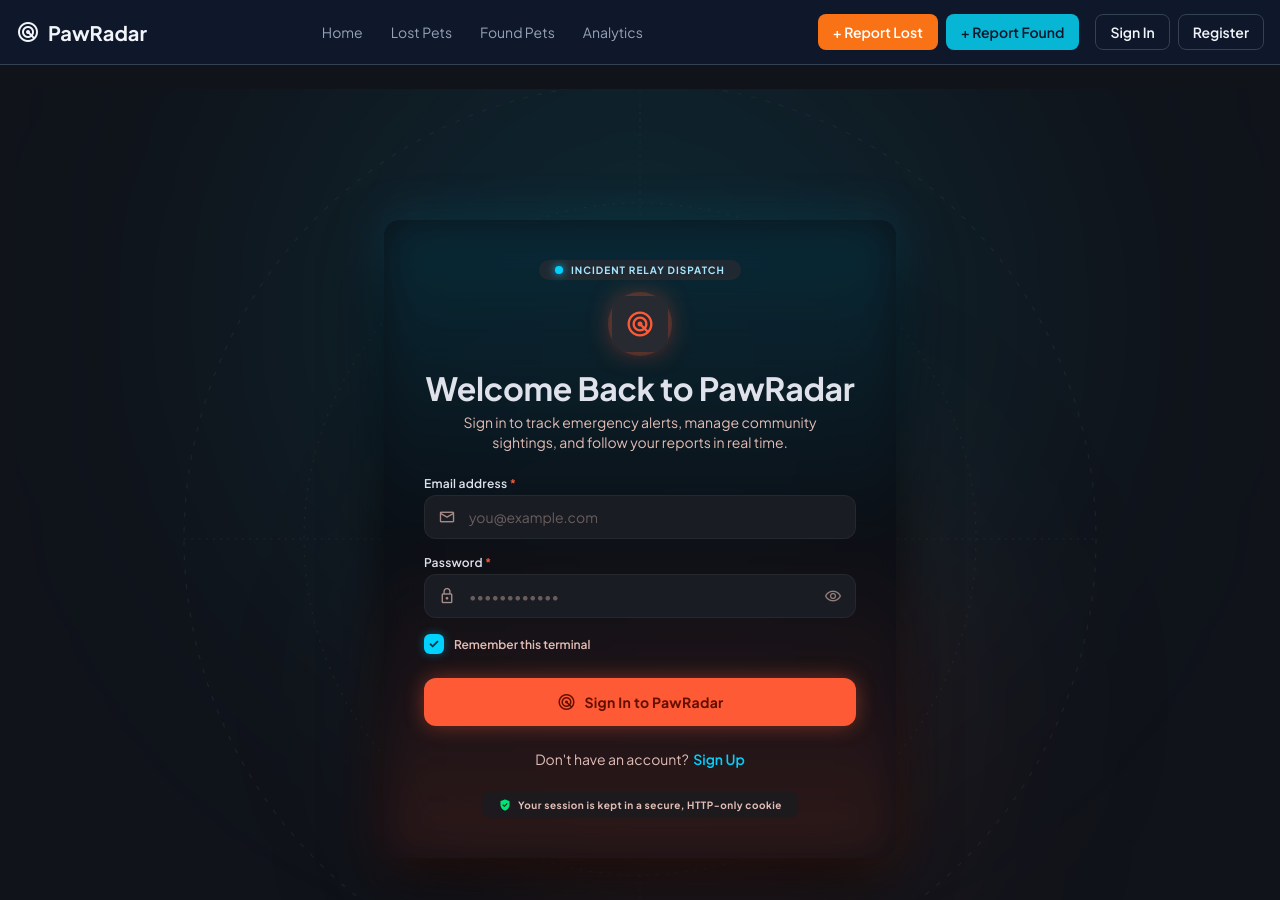
Scenario: LoginPage › server responses › shows a message for an unreachable server
Type "sam@example.com" into the field labelled "Email address *".
click(640, 517); type("sam@example.com")  # box [424, 495, 856, 539]
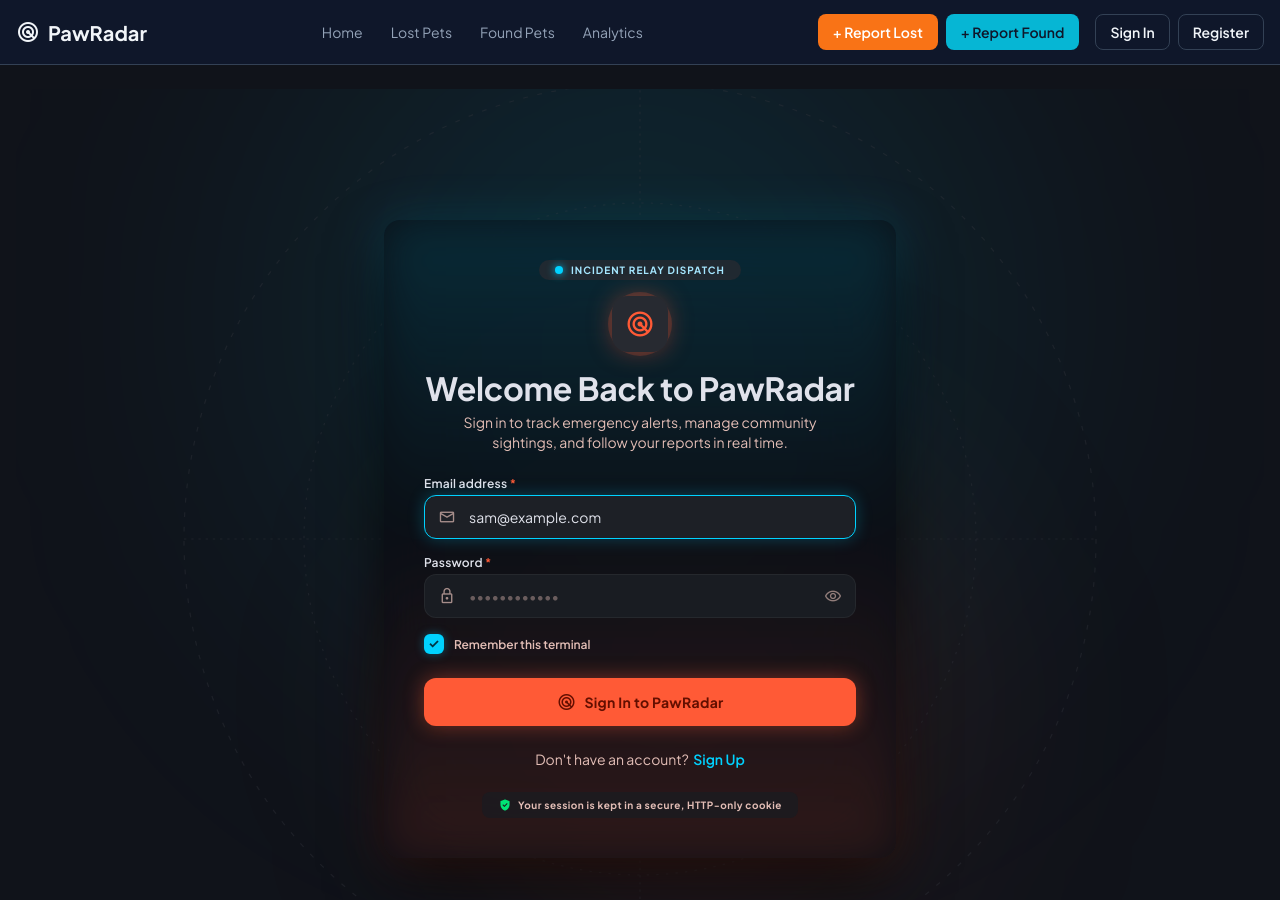
Type "correct-horse-1" into the password field labelled "Password *".
click(640, 596); type("correct-horse-1")  # box [424, 574, 856, 618]
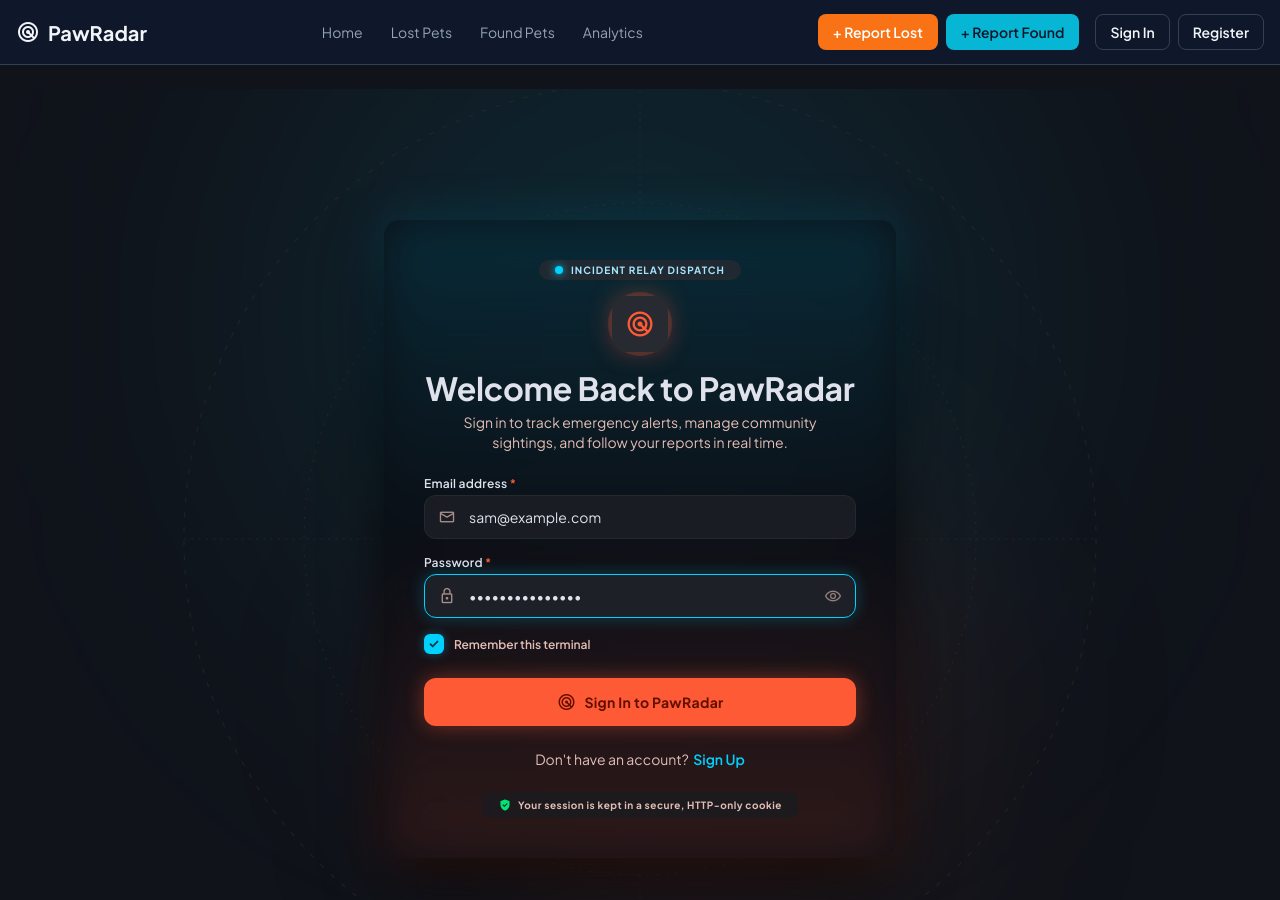
Click the button "Sign In to PawRadar".
click(640, 702)  # box [424, 678, 856, 726]
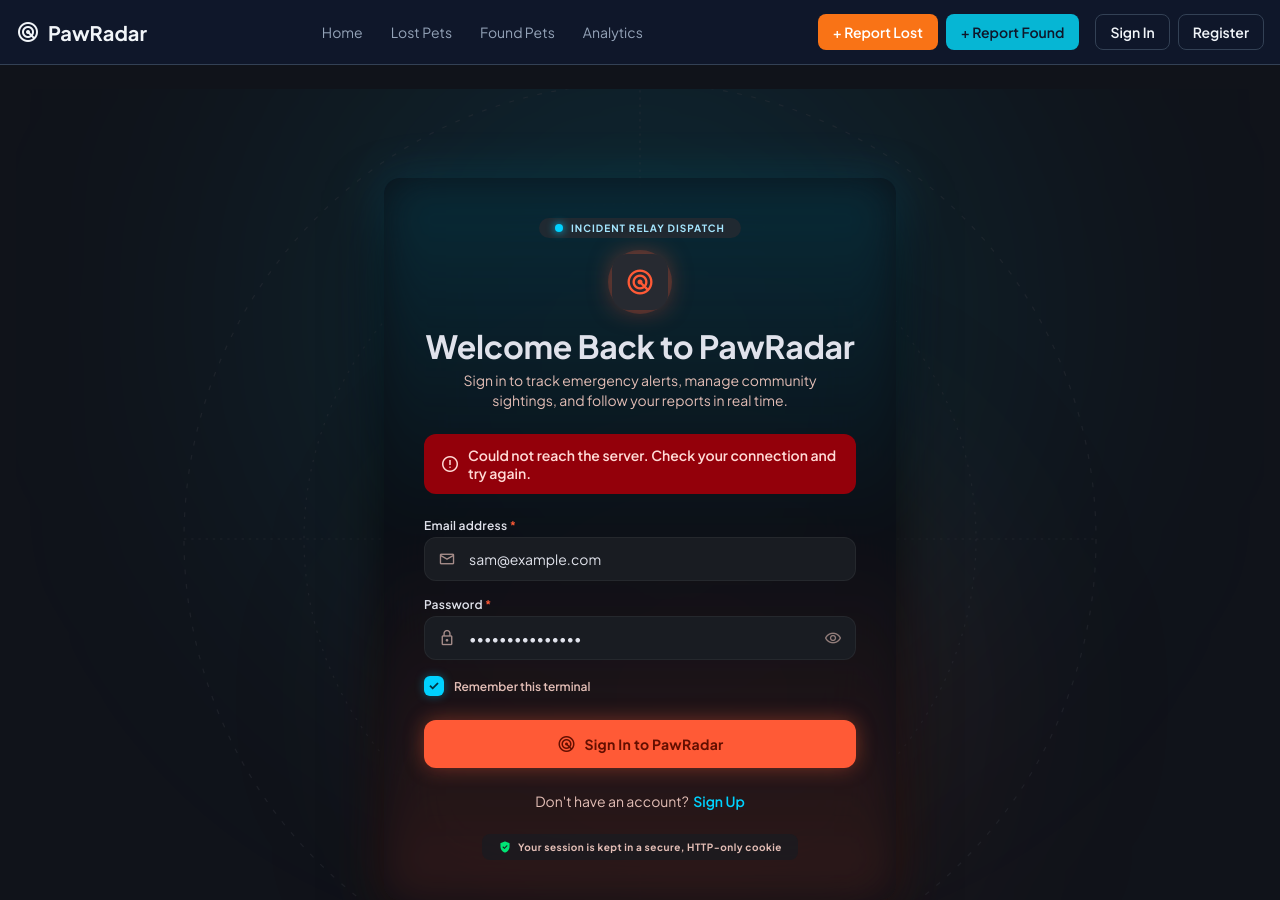
expect the message shows "Could not reach the server": met, box [468, 446, 836, 482]
